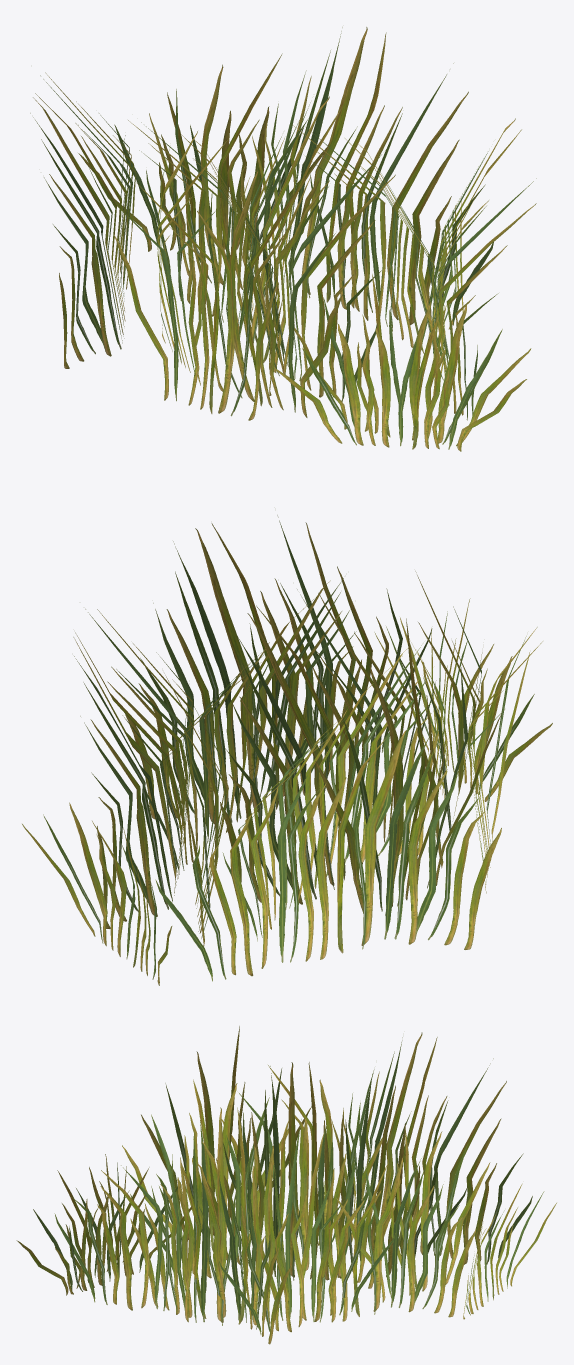
The model's file is SM_Grass_01a.fbx.
The picture shows the model from 3 angles, top to bottom: view 1: azimuth 30°, elevation 25°; view 2: azimuth 150°, elevation 25°; view 3: azimuth 270°, elevation 25°; orthographic projection. The views are drawn at different scales.
Parts seen in each view (by area): view 1: SM_Grass_01a_LOD0; view 2: SM_Grass_01a_LOD0; view 3: SM_Grass_01a_LOD0.
Part boxes in pixels (bbox=[...]): SM_Grass_01a_LOD0: bbox=[30, 27, 536, 451]; SM_Grass_01a_LOD0: bbox=[22, 515, 552, 985]; SM_Grass_01a_LOD0: bbox=[16, 1026, 556, 1344].
Size of the model in its own units: 149 by 217 by 87.66.
